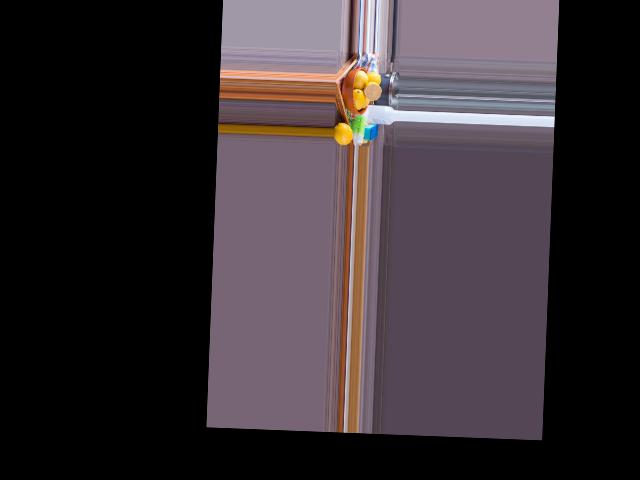lemon: (333, 121, 352, 145)
